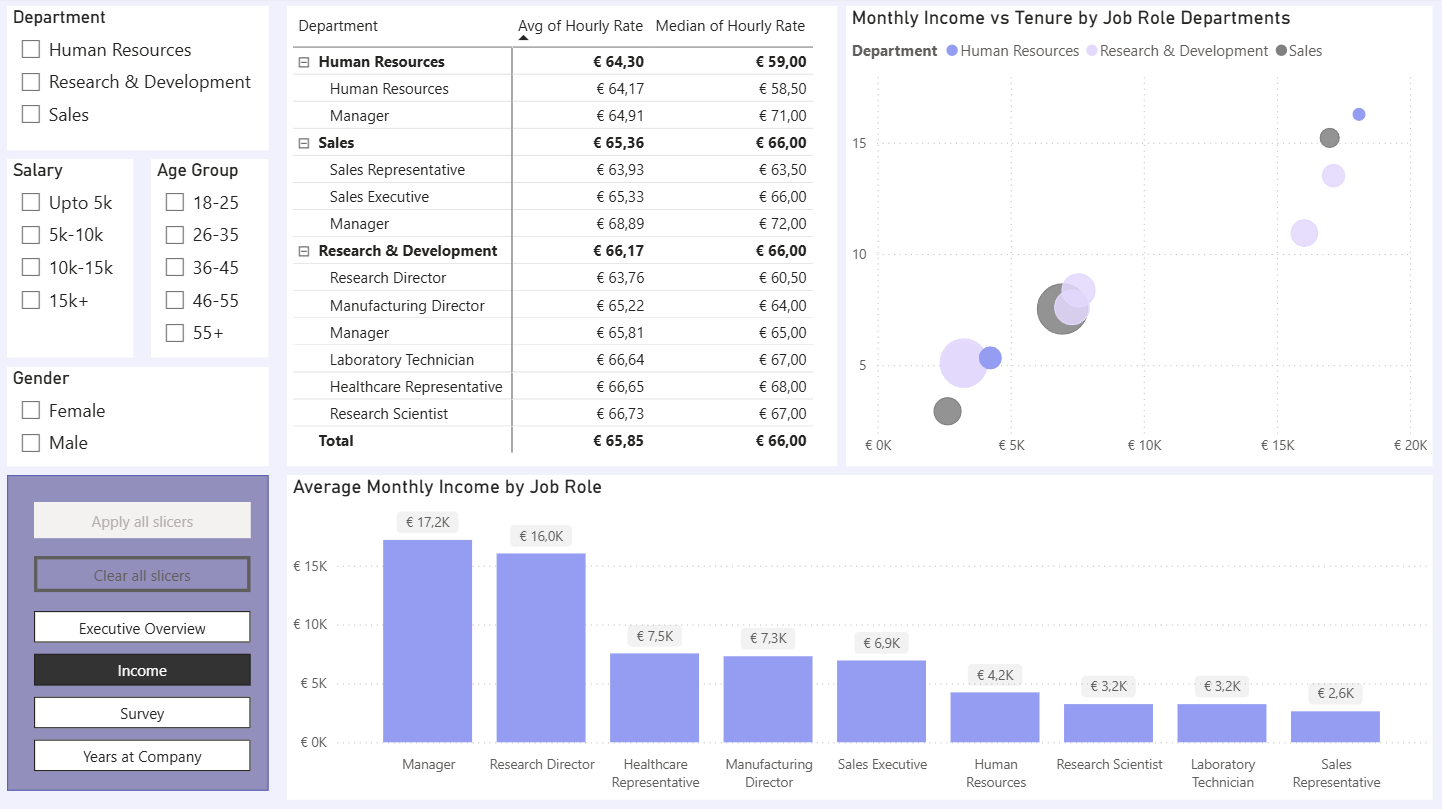

The page's visual inventory and layout, read from the dashboard file:
{"tool":"powerbi","page":{"name":"Income","canvas":[1280,720],"ordinal":1},"visuals":[{"type":"slicer","title":"Salary","fields":{"Values":["HR_Analytics.Salary Slab"]},"box":[8,144,112,176],"z":2000},{"type":"slicer","title":"Gender","fields":{"Values":["HR_Analytics.Gender"]},"box":[8,328,232,88],"z":3000},{"type":"slicer","title":"Department","fields":{"Values":["HR_Analytics.Department"]},"box":[8,8,232,128],"z":4000},{"type":"slicer","title":"Age Group","fields":{"Values":["HR_Analytics.AgeGroup"]},"box":[136,144,104,176],"z":5000},{"type":"clusteredColumnChart","title":"Average Monthly Income by Job Role","fields":{"Category":["HR_Analytics.JobRole"],"Y":["Avg(HR_Analytics.MonthlyIncome)"]},"box":[256,424,1016,288],"z":6000},{"type":"pivotTable","title":"Hourly Rate in Education Field","fields":{"Rows":["HR_Analytics.Department","HR_Analytics.JobRole"],"Values":["Avg(HR_Analytics.HourlyRate)","Median(HR_Analytics.HourlyRate)"]},"box":[256,8,488,408],"z":7000},{"type":"shape","box":[8,424,232,280],"z":8000},{"type":"pageNavigator","box":[32,544,192,144],"z":9000},{"type":"actionButton","box":[32,448,192,32],"z":10000},{"type":"actionButton","box":[32,496,192,32],"z":11000},{"type":"scatterChart","title":"Monthly Income vs Tenure by Job Role Departments","fields":{"Size":["Sum(HR_Analytics.EmployeeCount)"],"X":["Avg(HR_Analytics.MonthlyIncome)"],"Y":["_Measures.Avg Years at Company"],"Series":["HR_Analytics.Department"],"Category":["HR_Analytics.JobRole"]},"box":[752,8,520,408],"z":12000}]}

Visuals, with their boxes in screenshot pixels (x1, y1, x2, y2), scaled from the page's 1280x720 canvas onto the 1442x809 screenshot:
"Salary" slicer: [x1=9, y1=162, x2=135, y2=360]
"Gender" slicer: [x1=9, y1=369, x2=270, y2=467]
"Department" slicer: [x1=9, y1=9, x2=270, y2=153]
"Age Group" slicer: [x1=153, y1=162, x2=270, y2=360]
"Average Monthly Income by Job Role" clusteredColumnChart: [x1=288, y1=476, x2=1433, y2=800]
"Hourly Rate in Education Field" pivotTable: [x1=288, y1=9, x2=838, y2=467]
shape: [x1=9, y1=476, x2=270, y2=791]
pageNavigator: [x1=36, y1=611, x2=252, y2=773]
actionButton: [x1=36, y1=503, x2=252, y2=539]
actionButton: [x1=36, y1=557, x2=252, y2=593]
"Monthly Income vs Tenure by Job Role Departments" scatterChart: [x1=847, y1=9, x2=1433, y2=467]
